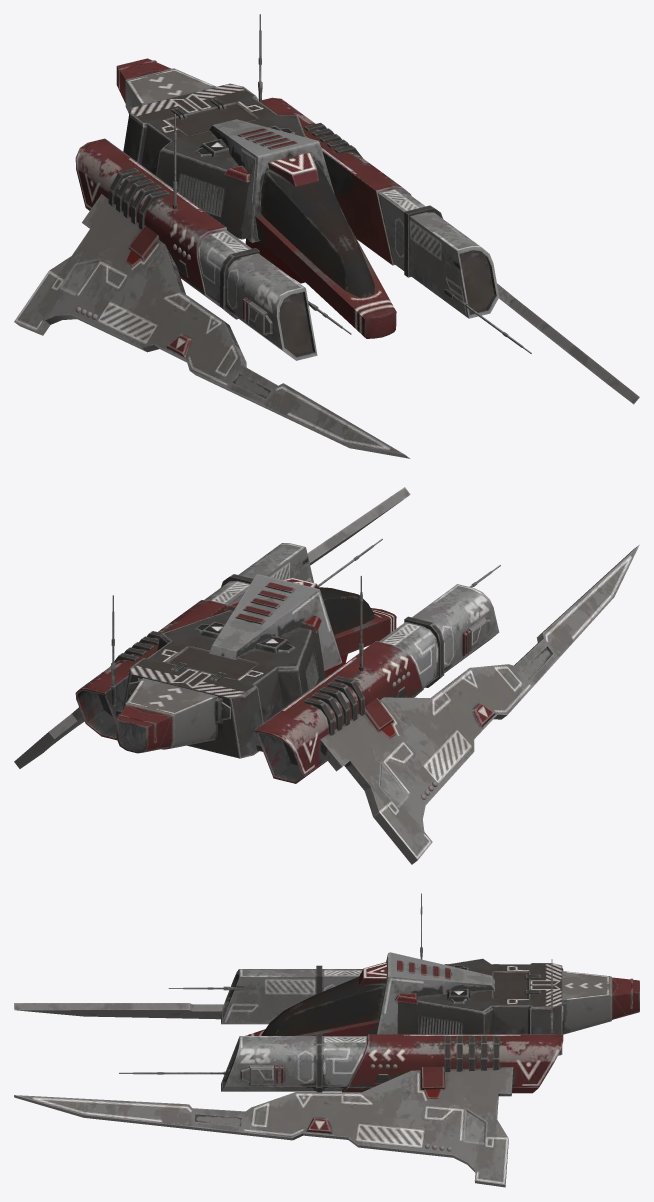
The model's file is ship-striker.gltf.
3 renders of one model, top to bottom at view 1: azimuth 30°, elevation 25°; view 2: azimuth 150°, elevation 25°; view 3: azimuth 270°, elevation 25°, orthographic. The views are drawn at different scales.
Parts seen in each view (by area): view 1: striker; view 2: striker; view 3: striker.
Boxes of the visible parts, x1,y1,x2,y2 form: striker: [14, 14, 639, 458]; striker: [14, 487, 639, 864]; striker: [14, 893, 639, 1187].
Size of the model in its own units: 5.03 by 2.68 by 8.43.
Materials: 1 (1 with a texture image).
